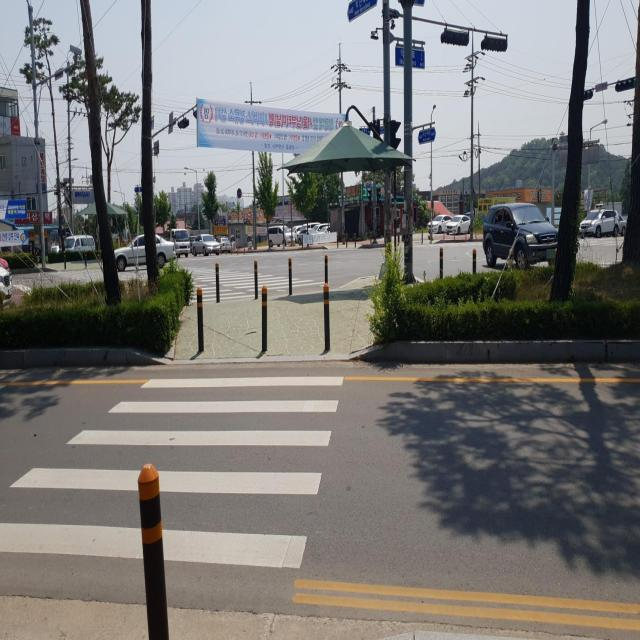횡단보도: (0, 370, 348, 572), (176, 263, 332, 300)
